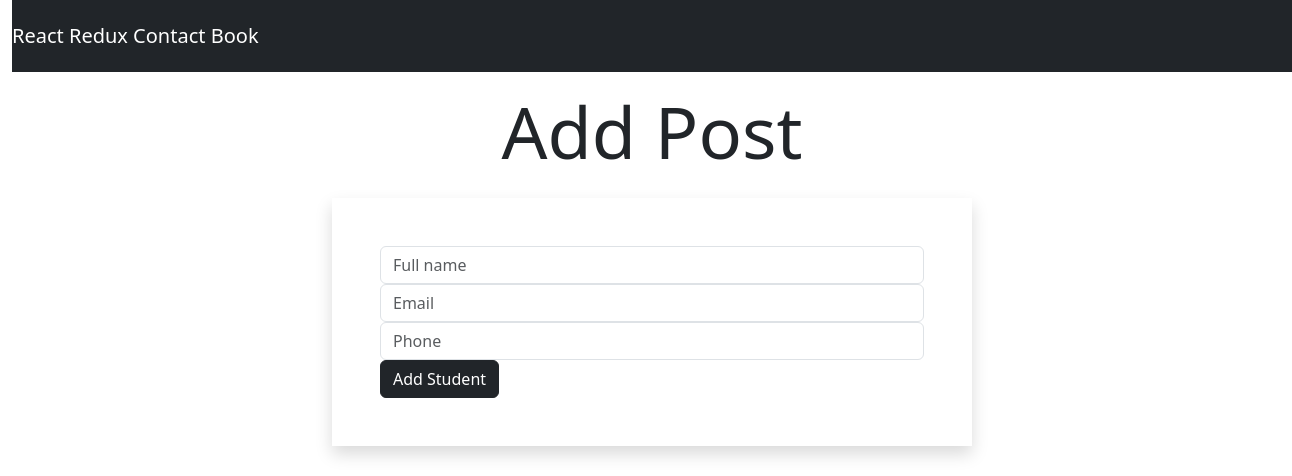
Test: Contact Book App › should add a new contact
Type "John Doe" into the field with placeholder "Full name" at (652, 265), box [380, 246, 924, 284]
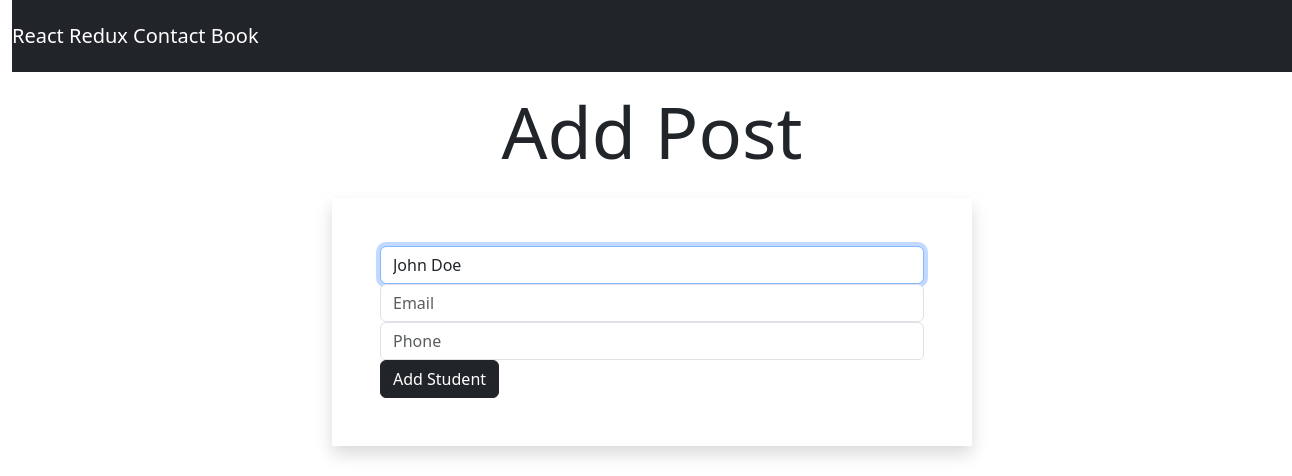
Type "john.doe@example.com" into the field with placeholder "Email" at (652, 303), box [380, 284, 924, 322]
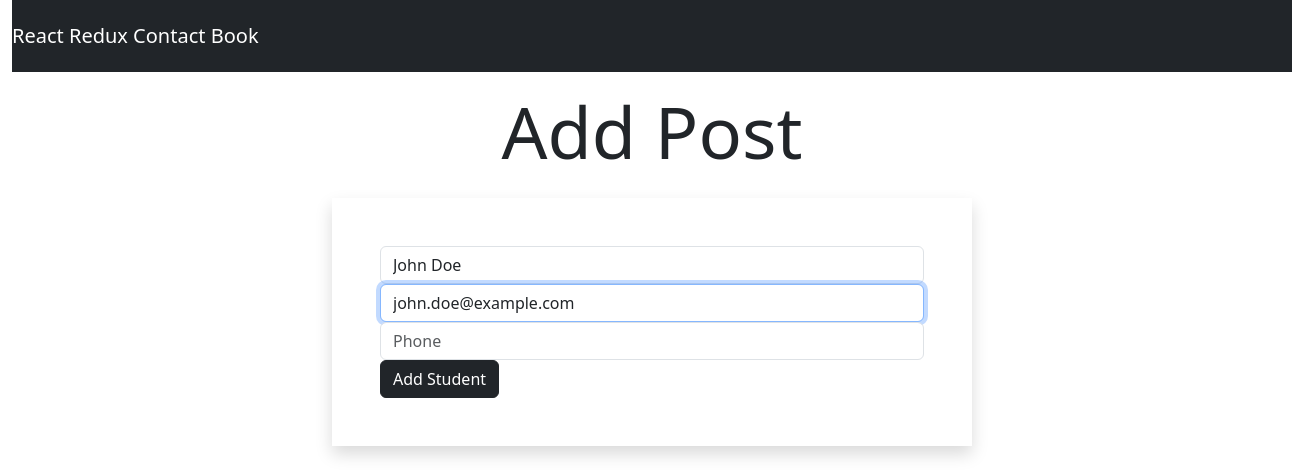
Type "1234567890" into the number field with placeholder "Phone" at (652, 341), box [380, 322, 924, 360]
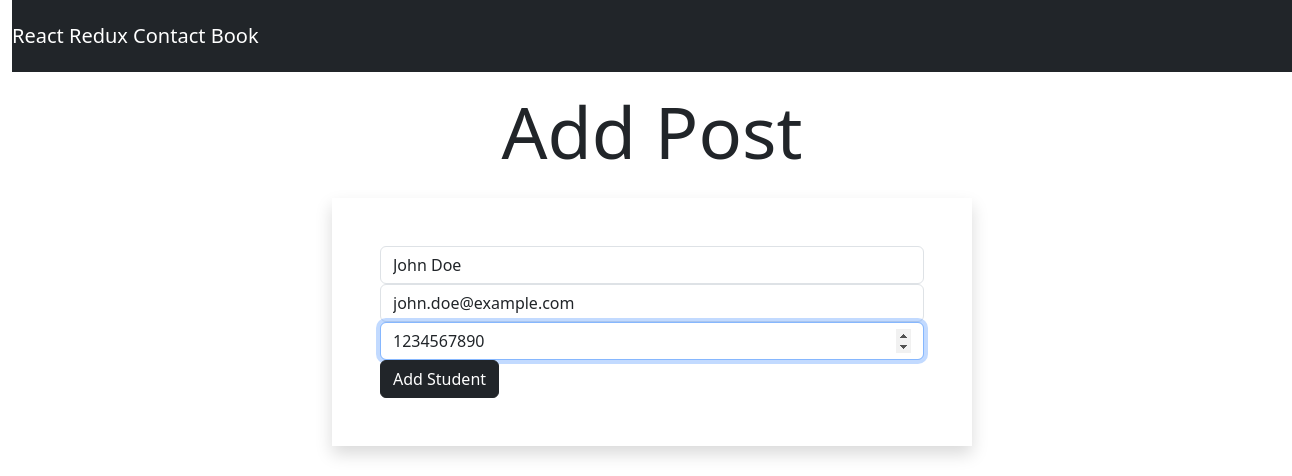
Click the submit button at (440, 379), box [380, 360, 499, 398]
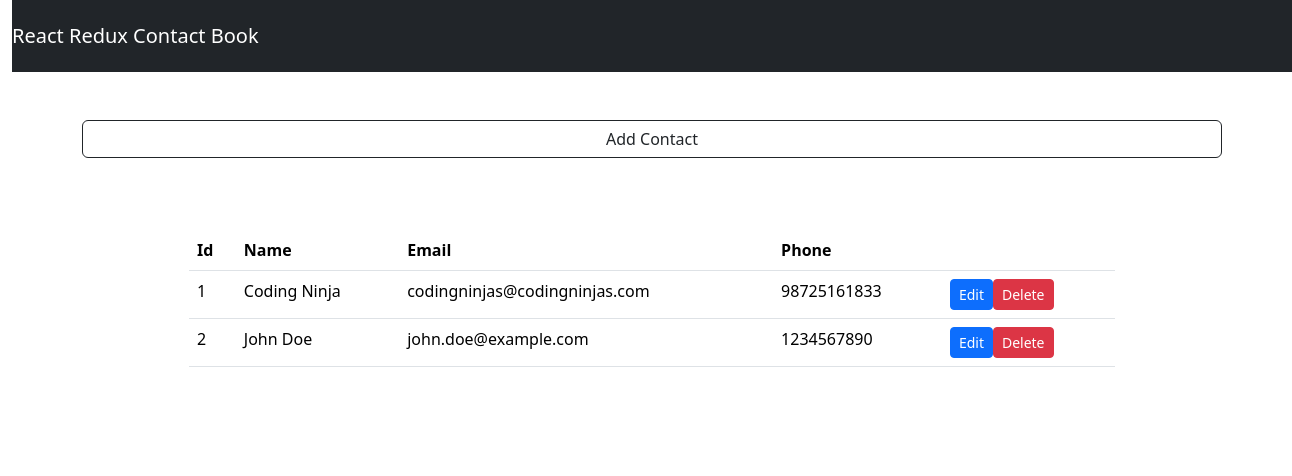
Now the text "John Doe" is shown, box [236, 318, 399, 366]
